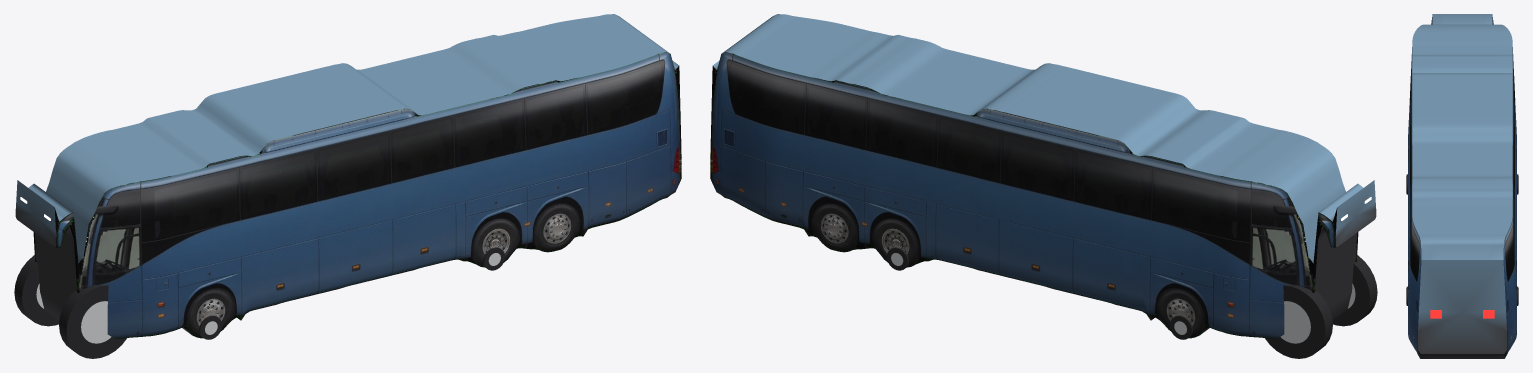
The model's file is coach.glb.
The picture shows the model from 3 angles, left to right: view 1: azimuth 30°, elevation 25°; view 2: azimuth 150°, elevation 25°; view 3: azimuth 270°, elevation 25°; orthographic projection. The views are drawn at different scales.
Visible parts, largest first — view 1: coach; view 2: coach; view 3: coach.
Boxes of the visible parts, x1,y1,x2,y2 form: coach: [14, 14, 681, 358]; coach: [710, 14, 1377, 358]; coach: [1406, 14, 1518, 358].
Bounding box in the file's own units: 9.43 × 2.63 × 1.84.
8 materials, 2 textured.
